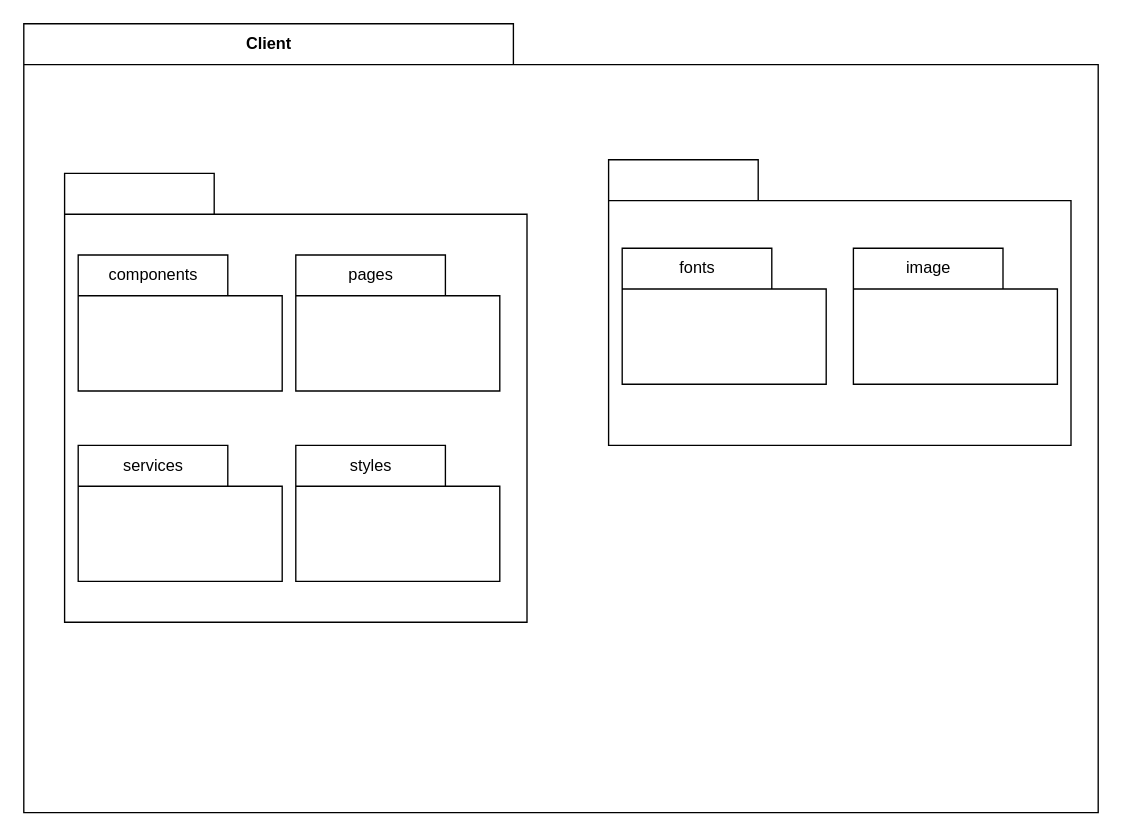
Image size: 1122x836. Some labels were removed from this diagram. The shapes that lost their labels are listed below. From the top down, each one's box as (x1, y1, x2, y2) in pixels, then its label:
(607, 158, 1071, 445): assets
(63, 172, 527, 622): src
